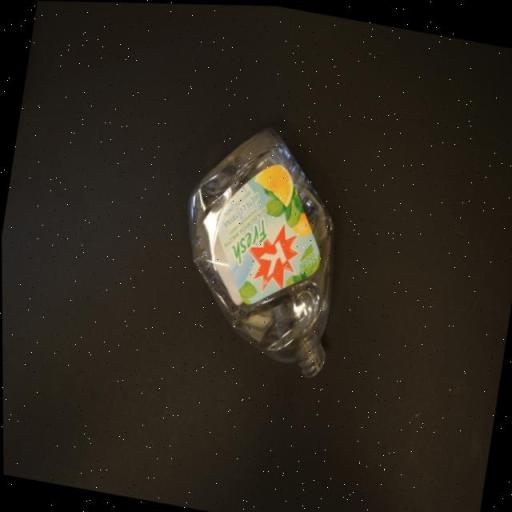plastic: (162, 114, 359, 380)
